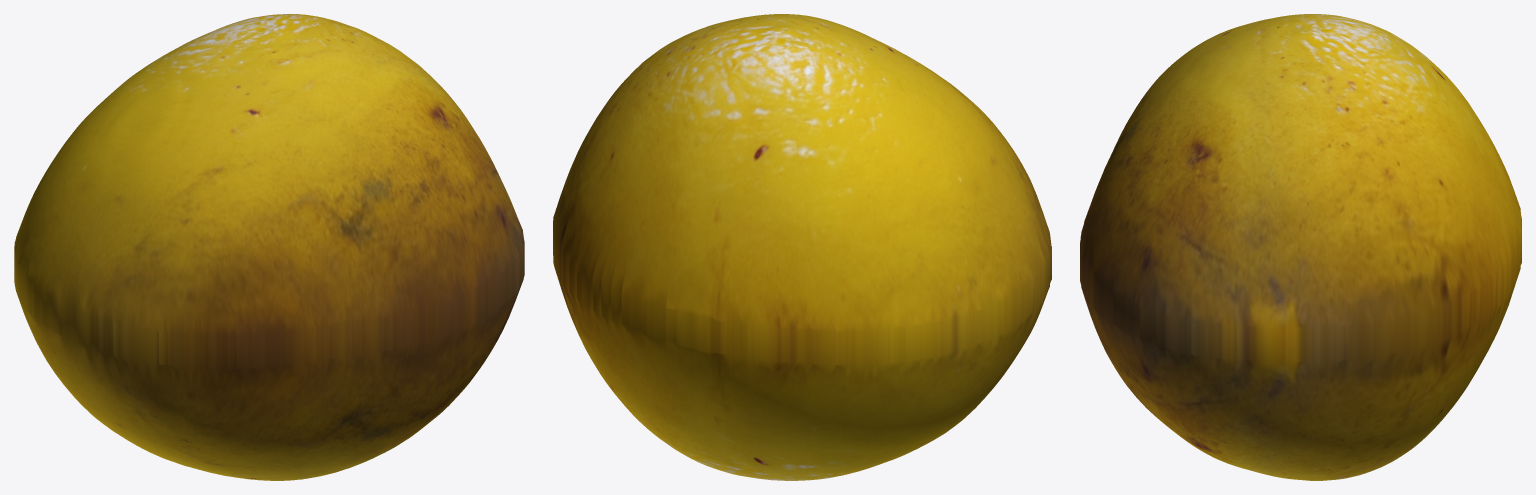
The model's file is lemon_2_2.obj.
3 renders of one model, left to right at view 1: azimuth 30°, elevation 25°; view 2: azimuth 150°, elevation 25°; view 3: azimuth 270°, elevation 25°, orthographic.
Parts seen in each view (by area): view 1: Grid; view 2: Grid; view 3: Grid.
Boxes of the visible parts, bbox=[...] form: Grid: bbox=[14, 14, 524, 480]; Grid: bbox=[553, 14, 1051, 480]; Grid: bbox=[1080, 14, 1521, 480].
Bounding box in the file's own units: 1.69 × 1.59 × 1.48.
1 material, 1 textured.
